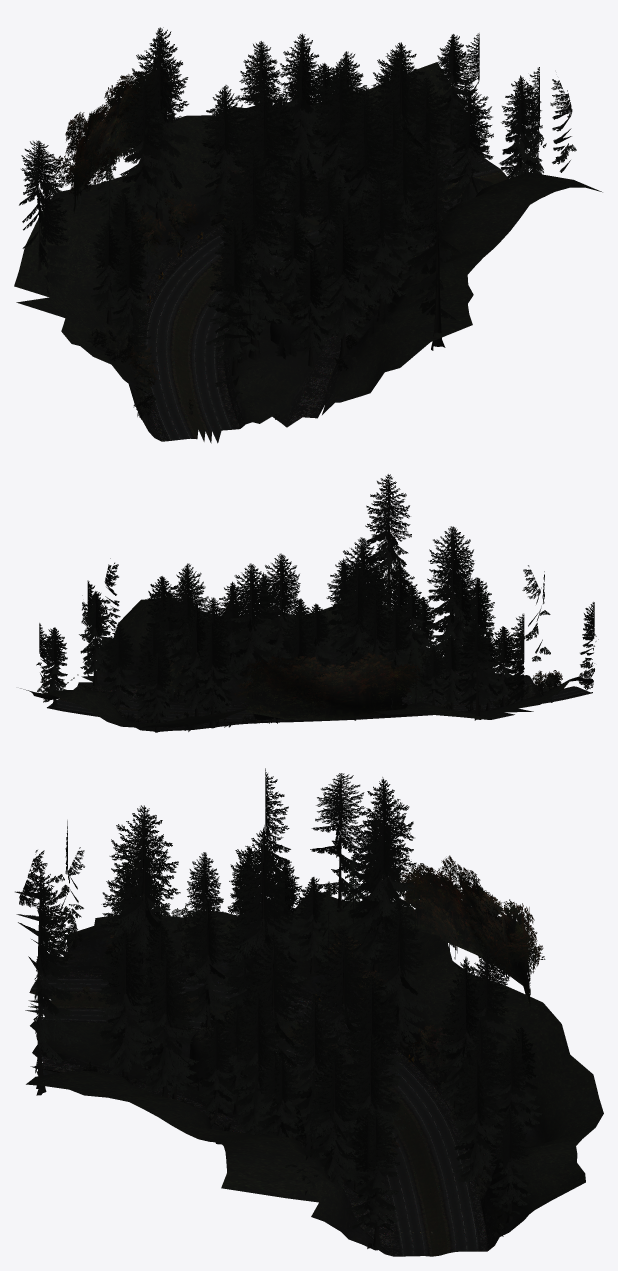
Rendered from cell_0_-18.gltf.
3 views of the same model, one above another, from view 1: azimuth 30°, elevation 25°; view 2: azimuth 150°, elevation 25°; view 3: azimuth 270°, elevation 25° (orthographic). The views are drawn at different scales.
Visible parts, largest first — view 1: cell_0_-18; view 2: cell_0_-18; view 3: cell_0_-18.
Boxes of the visible parts, x1,y1,x2,y2 form: cell_0_-18: (14, 27, 602, 443); cell_0_-18: (20, 474, 598, 732); cell_0_-18: (15, 768, 603, 1256).
Size of the model in its own units: 271 by 124 by 225.
Materials: 38 (38 with a texture image).
